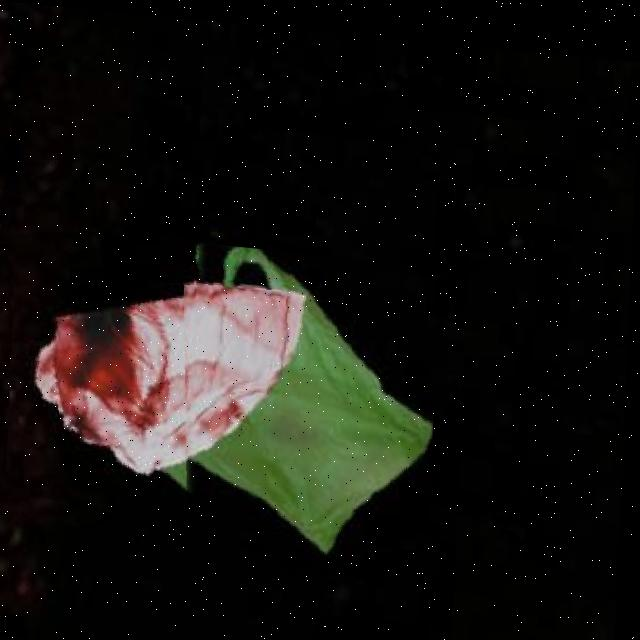plasticcover: (10, 194, 314, 503), (174, 237, 442, 576)
